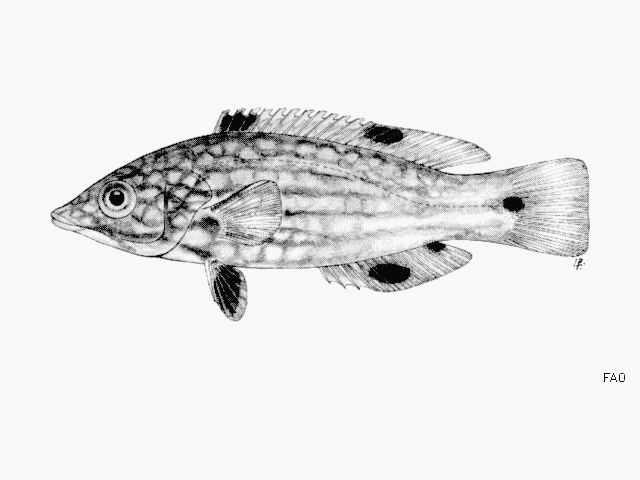fish: (49, 107, 592, 322)
